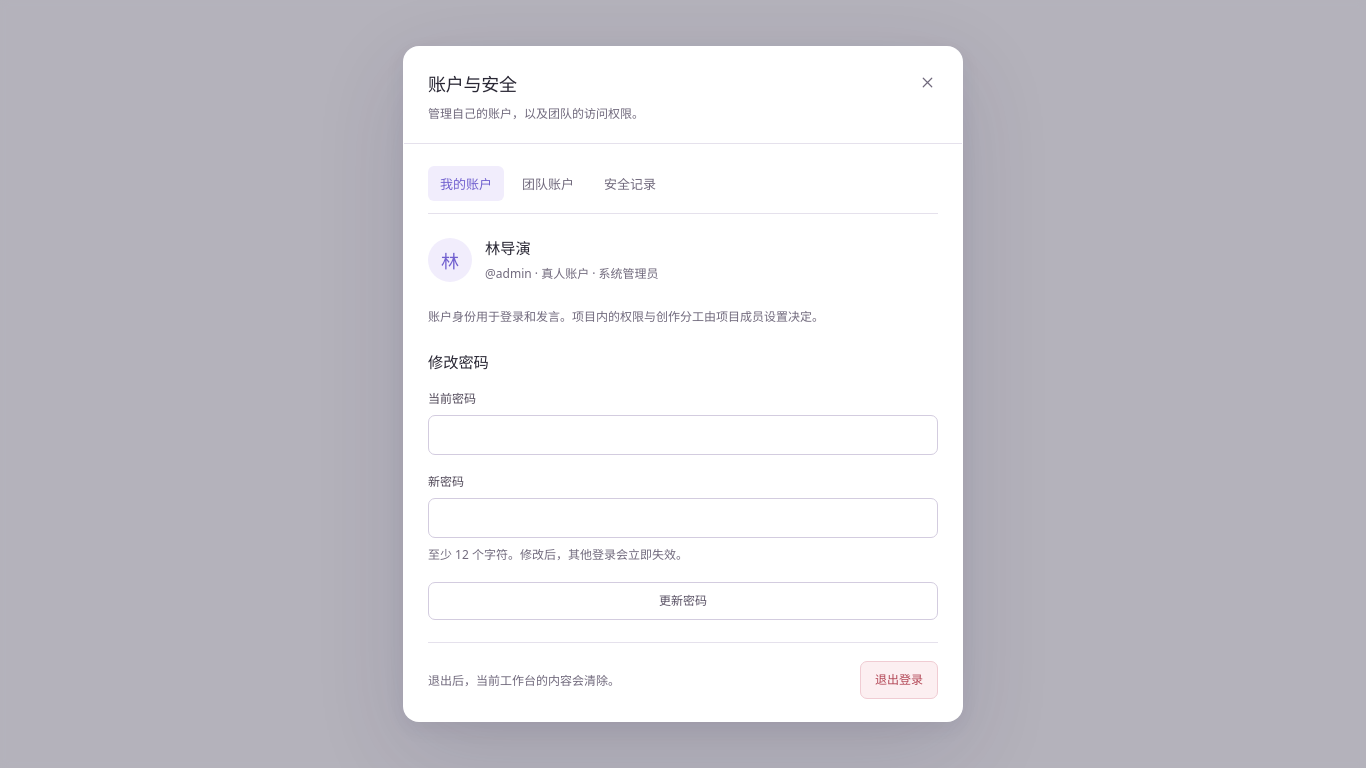
Test: account management › validates a short replacement password locally without hiding the save action
Type "current-password" into the password field labelled "当前密码" at (683, 435), box [428,415,938,455]
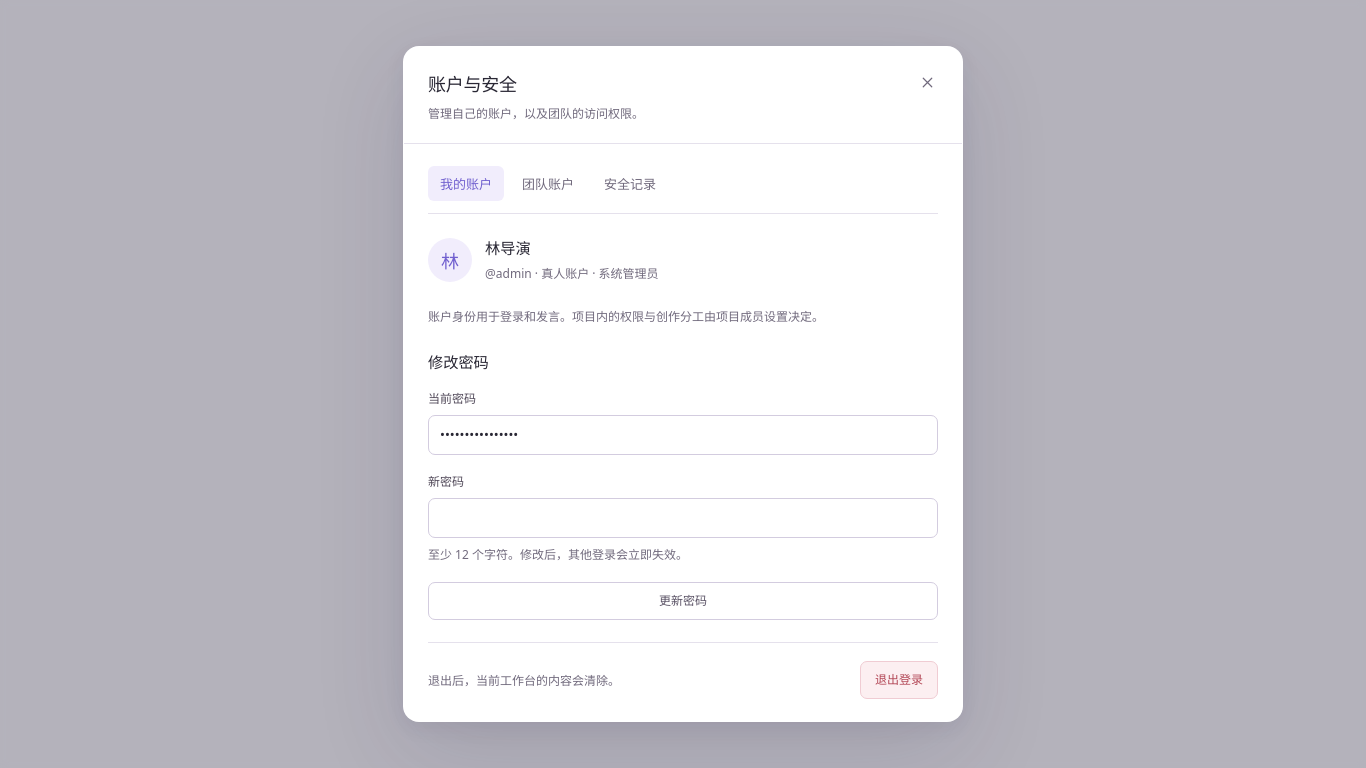
Type "short" into the password field labelled "新密码" at (683, 518), box [428,498,938,538]
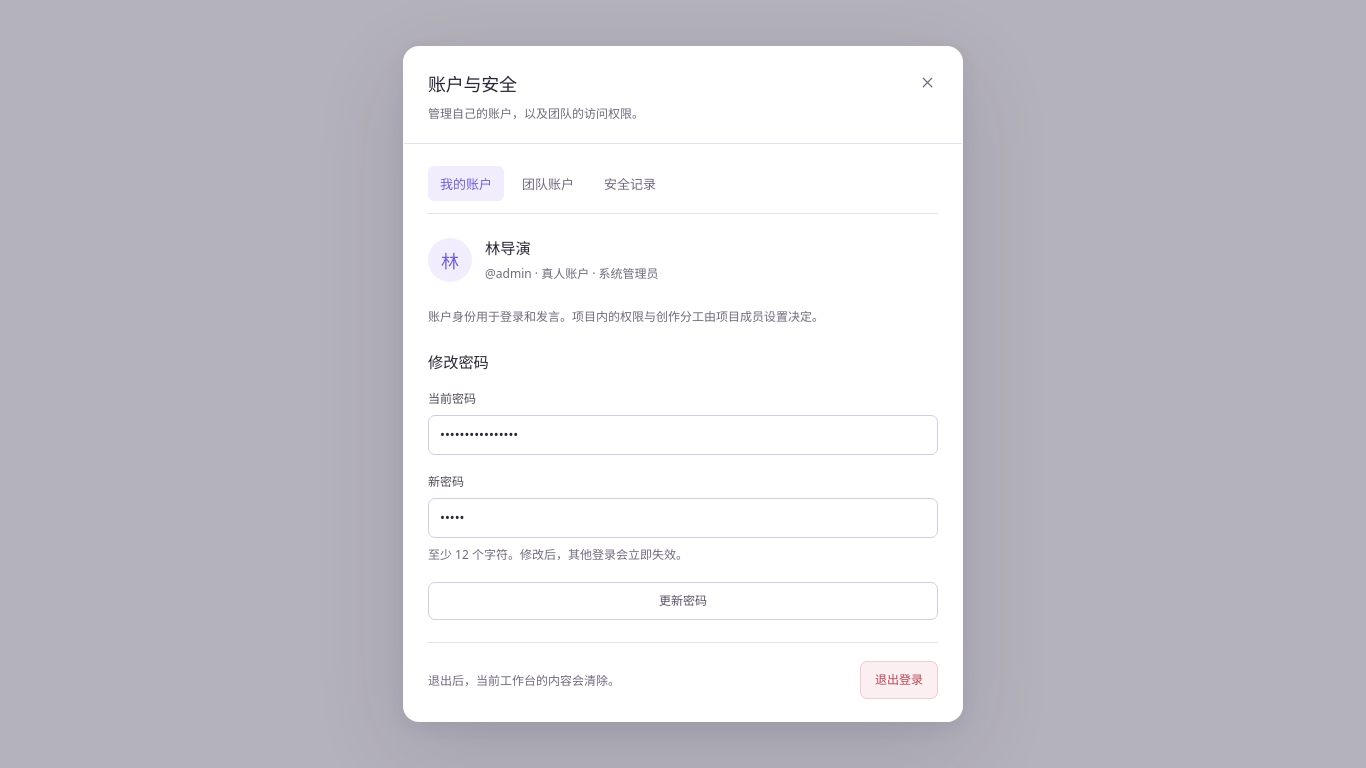
Click the button "更新密码" at (683, 601), box [428,582,938,620]
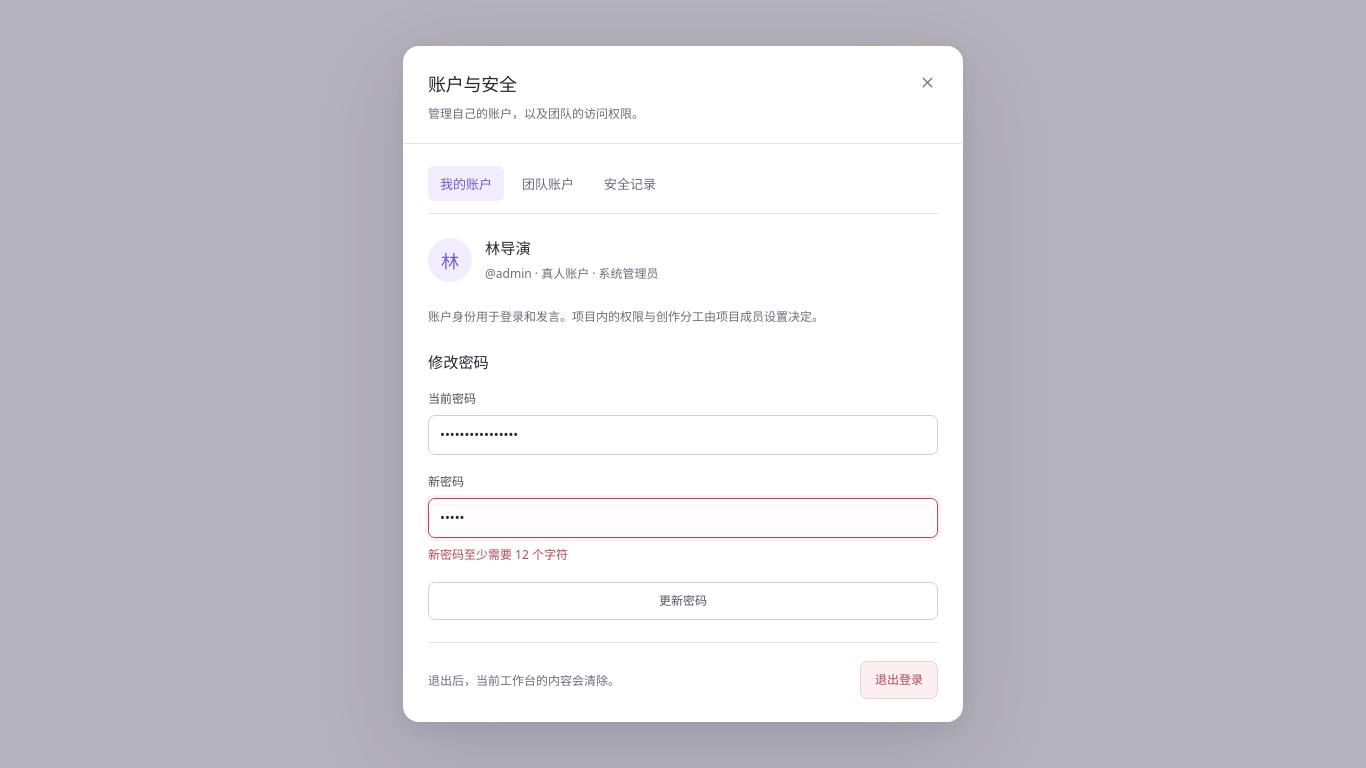
expect the text "新密码至少需要 12 个字符" is shown: met, box [428,546,568,563]
